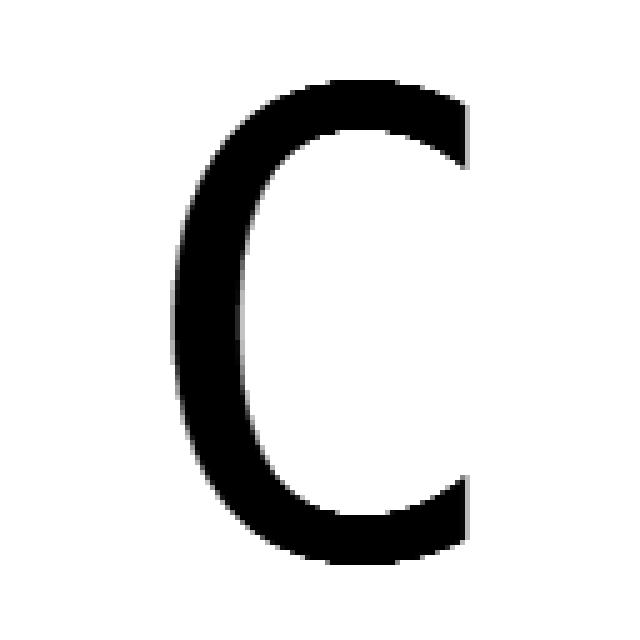C: (170, 80, 470, 570)
